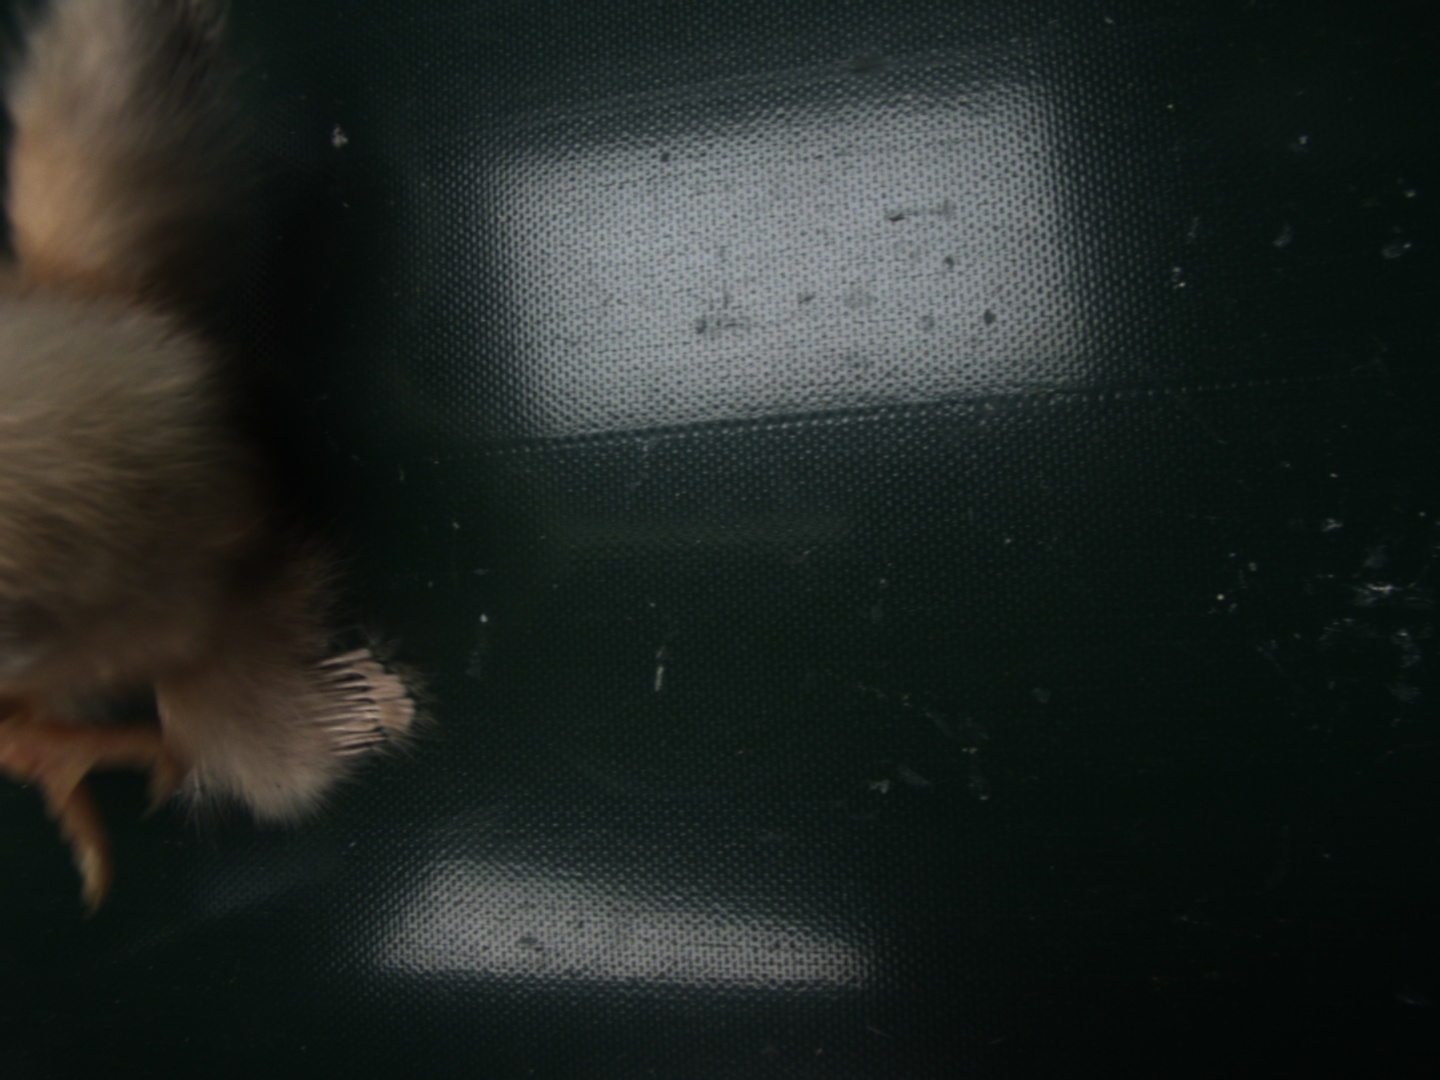female: (289, 648, 413, 758)
